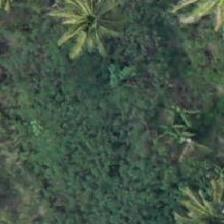Kelapa_Sawit: (44, 0, 134, 66), (167, 171, 223, 223)
